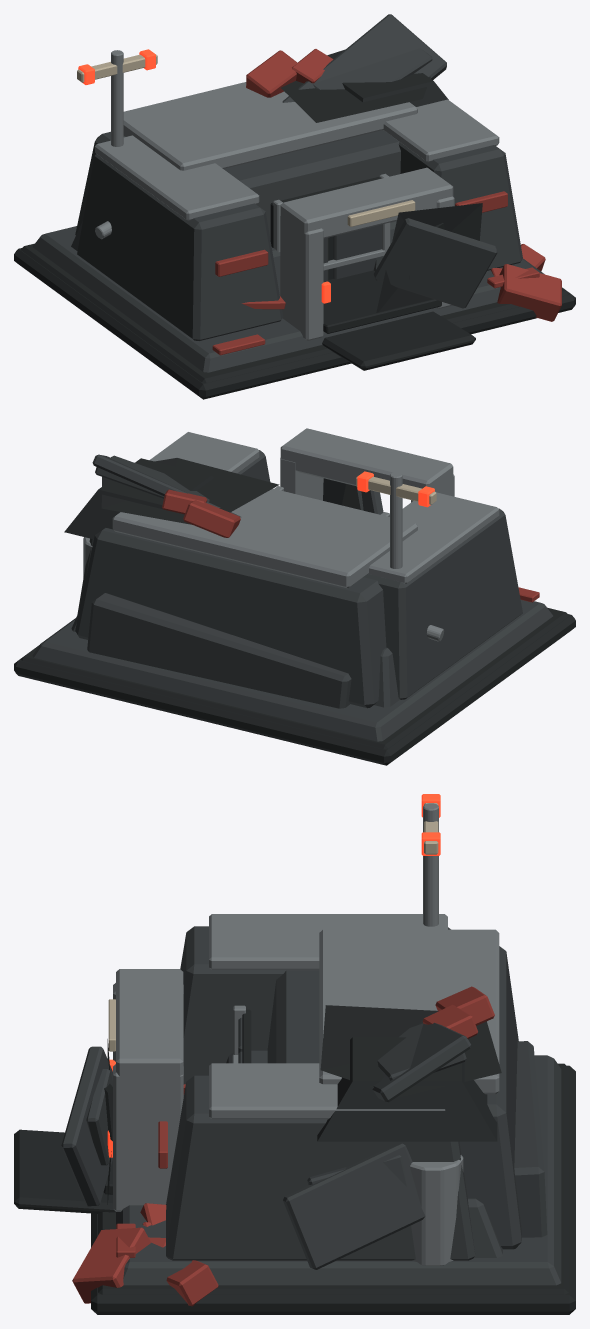
The model's file is ff_en_bar_01_v1.glb.
3 views of the same model, one above another, from view 1: azimuth 30°, elevation 25°; view 2: azimuth 150°, elevation 25°; view 3: azimuth 270°, elevation 25° (orthographic). The views are drawn at different scales.
Parts seen in each view (by area): view 1: FF_EN_BAR_01_M_EnemyObsidianArmor_runtime, FF_EN_BAR_01_M_EnemyGunmetal_runtime, FF_EN_BAR_01_M_EnemyRecess_runtime, damage_critical_bent_armor, ruin_foundation, damage_critical_collapse, damage_critical_debris, FF_EN_BAR_01_M_EnemyCrimsonArmor_runtime, damage_damaged_bent_armor, barracks_door_M_EnemyObsidianArmor_runtime, FF_EN_BAR_01_M_EnemyMarking_runtime, barracks_door_M_EnemyGunmetal_runtime (+3 smaller); view 2: FF_EN_BAR_01_M_EnemyObsidianArmor_runtime, FF_EN_BAR_01_M_EnemyGunmetal_runtime, ruin_collapsed_structure, FF_EN_BAR_01_M_EnemyRecess_runtime, damage_critical_collapse, ruin_foundation, damage_critical_bent_armor, damage_damaged_bent_armor, damage_critical_debris, FF_EN_BAR_01_M_EnemyMarking_runtime, damage_damaged_debris, FF_EN_BAR_01_M_EnemySignal_runtime (+1 smaller); view 3: FF_EN_BAR_01_M_EnemyObsidianArmor_runtime, FF_EN_BAR_01_M_EnemyGunmetal_runtime, damage_critical_bent_armor, damage_critical_collapse, FF_EN_BAR_01_M_EnemyRecess_runtime, ruin_foundation, ruin_collapsed_structure, damage_critical_debris, damage_damaged_bent_armor, damage_damaged_debris, FF_EN_BAR_01_M_EnemyCrimsonArmor_runtime, FF_EN_BAR_01_M_EnemyMarking_runtime (+1 smaller).
Part boxes in pixels (<box>): FF_EN_BAR_01_M_EnemyObsidianArmor_runtime: <box>33,130,544,372</box>; FF_EN_BAR_01_M_EnemyGunmetal_runtime: <box>95,50,499,340</box>; FF_EN_BAR_01_M_EnemyRecess_runtime: <box>14,177,575,399</box>; damage_critical_bent_armor: <box>282,14,497,308</box>; ruin_foundation: <box>21,243,568,382</box>; damage_critical_collapse: <box>281,49,482,312</box>; damage_critical_debris: <box>246,50,561,321</box>; FF_EN_BAR_01_M_EnemyCrimsonArmor_runtime: <box>212,191,539,355</box>; damage_damaged_bent_armor: <box>313,48,432,89</box>; barracks_door_M_EnemyObsidianArmor_runtime: <box>323,224,381,282</box>; FF_EN_BAR_01_M_EnemyMarking_runtime: <box>77,54,415,226</box>; barracks_door_M_EnemyGunmetal_runtime: <box>273,173,390,270</box>; FF_EN_BAR_01_M_EnemyObsidianArmor_runtime: <box>32,450,552,741</box>; FF_EN_BAR_01_M_EnemyGunmetal_runtime: <box>83,428,499,588</box>; ruin_collapsed_structure: <box>71,593,399,708</box>; FF_EN_BAR_01_M_EnemyRecess_runtime: <box>14,614,575,765</box>; damage_critical_collapse: <box>64,458,279,539</box>; ruin_foundation: <box>21,607,568,749</box>; damage_critical_bent_armor: <box>92,454,383,517</box>; damage_damaged_bent_armor: <box>95,455,363,510</box>; damage_critical_debris: <box>183,500,240,537</box>; FF_EN_BAR_01_M_EnemyMarking_runtime: <box>356,476,436,504</box>; damage_damaged_debris: <box>162,489,207,514</box>; FF_EN_BAR_01_M_EnemySignal_runtime: <box>357,471,434,507</box>; FF_EN_BAR_01_M_EnemyObsidianArmor_runtime: <box>116,926,561,1285</box>; FF_EN_BAR_01_M_EnemyGunmetal_runtime: <box>113,803,499,1265</box>; damage_critical_bent_armor: <box>61,1018,471,1269</box>; damage_critical_collapse: <box>107,1005,501,1204</box>; FF_EN_BAR_01_M_EnemyRecess_runtime: <box>91,1009,575,1314</box>; ruin_foundation: <box>14,1063,568,1294</box>; ruin_collapsed_structure: <box>226,1041,547,1257</box>; damage_critical_debris: <box>72,986,494,1306</box>; damage_damaged_bent_armor: <box>86,1023,466,1186</box>; damage_damaged_debris: <box>142,1005,477,1226</box>; FF_EN_BAR_01_M_EnemyCrimsonArmor_runtime: <box>116,1121,167,1257</box>; FF_EN_BAR_01_M_EnemyMarking_runtime: <box>108,803,438,1051</box>.
Bounding box in the file's own units: 8.93 × 5.34 × 8.75.
